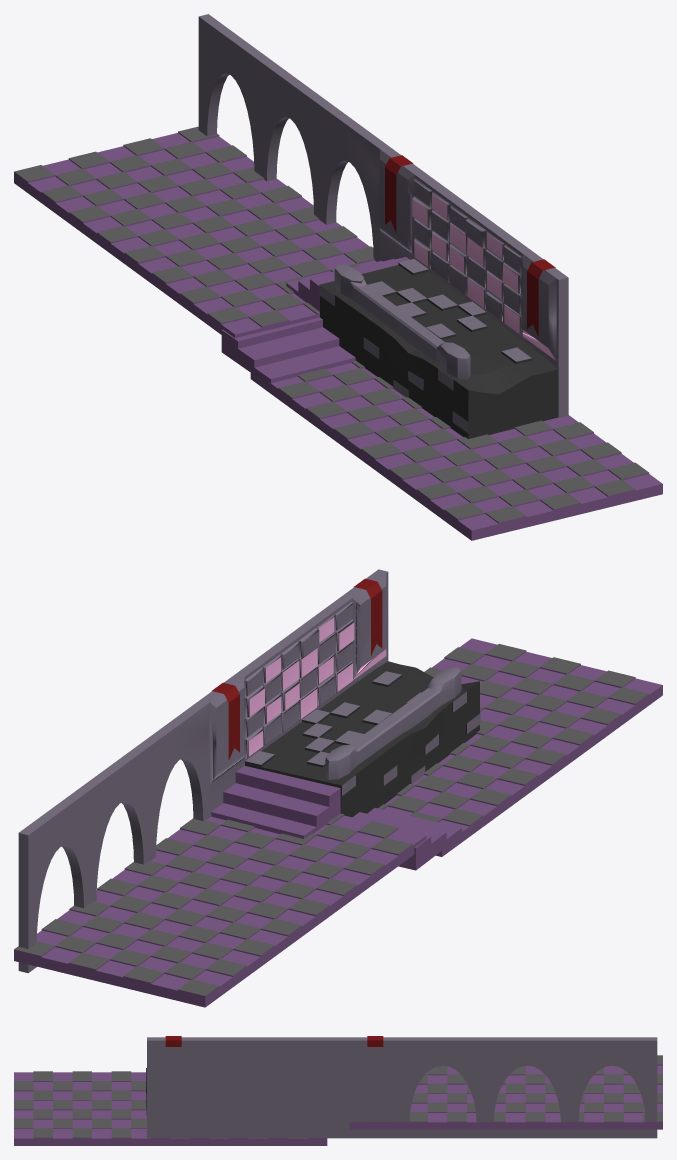
Rendered from DUNGEON LEVEL 1.fbx.
3 renders of one model, top to bottom at view 1: azimuth 30°, elevation 25°; view 2: azimuth 150°, elevation 25°; view 3: azimuth 270°, elevation 25°, orthographic. The views are drawn at different scales.
Visible parts, largest first — view 1: Mid_floor, back_wall, lower_floor, Balcony, steps.001, wall, steps, banner1, banner2; view 2: Mid_floor, back_wall, lower_floor, Balcony, steps, wall, steps.001, banner1, banner2; view 3: back_wall, Mid_floor, lower_floor, banner1, banner2.
Part boxes in pixels (x1,y1,x2,y2): Mid_floor: (14, 126, 376, 337); back_wall: (198, 14, 568, 417); lower_floor: (250, 360, 662, 540); Balcony: (319, 259, 558, 438); steps.001: (221, 317, 355, 383); wall: (334, 264, 470, 380); steps: (286, 257, 409, 311); banner1: (385, 155, 413, 232); banner2: (527, 259, 555, 337); Mid_floor: (14, 813, 426, 1007); back_wall: (18, 569, 388, 973); lower_floor: (378, 638, 662, 856); Balcony: (245, 661, 480, 817); steps: (211, 765, 340, 838); wall: (325, 667, 461, 779); steps.001: (352, 808, 461, 870); banner1: (212, 682, 239, 760); banner2: (354, 578, 382, 655); back_wall: (147, 1037, 657, 1138); Mid_floor: (349, 1055, 662, 1129); lower_floor: (14, 1071, 327, 1145); banner1: (367, 1036, 383, 1046); banner2: (165, 1036, 181, 1046).
Size of the model in its own units: 1957 by 1441 by 8049.
